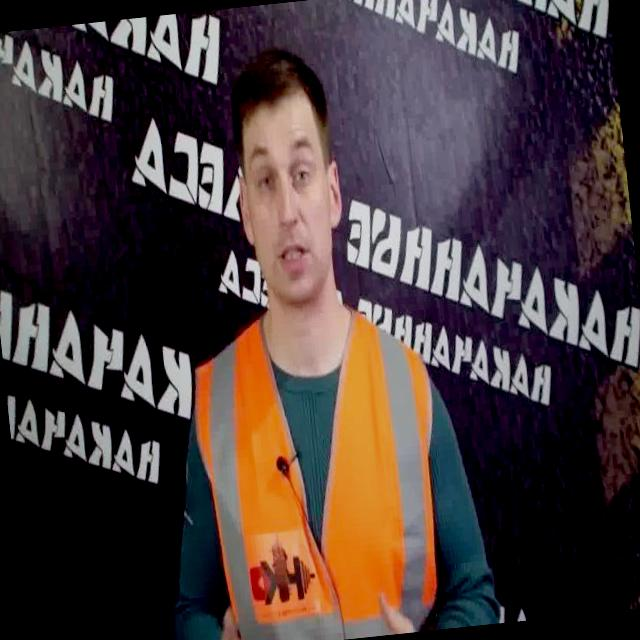vest: (181, 298, 458, 640)
